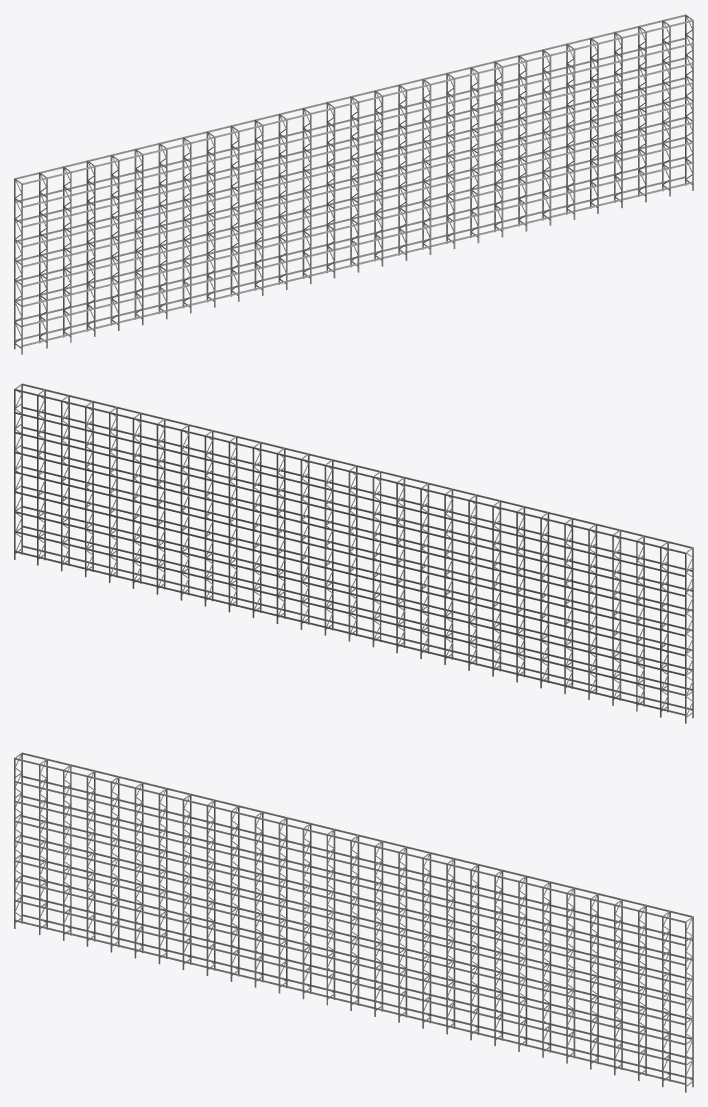
File: SND_liku_jia.glb
The picture shows the model from 3 angles, top to bottom: view 1: azimuth 30°, elevation 25°; view 2: azimuth 150°, elevation 25°; view 3: azimuth 330°, elevation 25°; orthographic projection.
Parts seen in each view (by area): view 1: Asset3DLoader.sceneRoot; view 2: Asset3DLoader.sceneRoot; view 3: Asset3DLoader.sceneRoot.
Part boxes in pixels (x1,y1,x2,y2): Asset3DLoader.sceneRoot: [14, 14, 693, 354]; Asset3DLoader.sceneRoot: [14, 383, 693, 723]; Asset3DLoader.sceneRoot: [14, 752, 693, 1092].
Bounding box in the file's own units: 583 × 142 × 11.81.
1 material, 1 textured.
